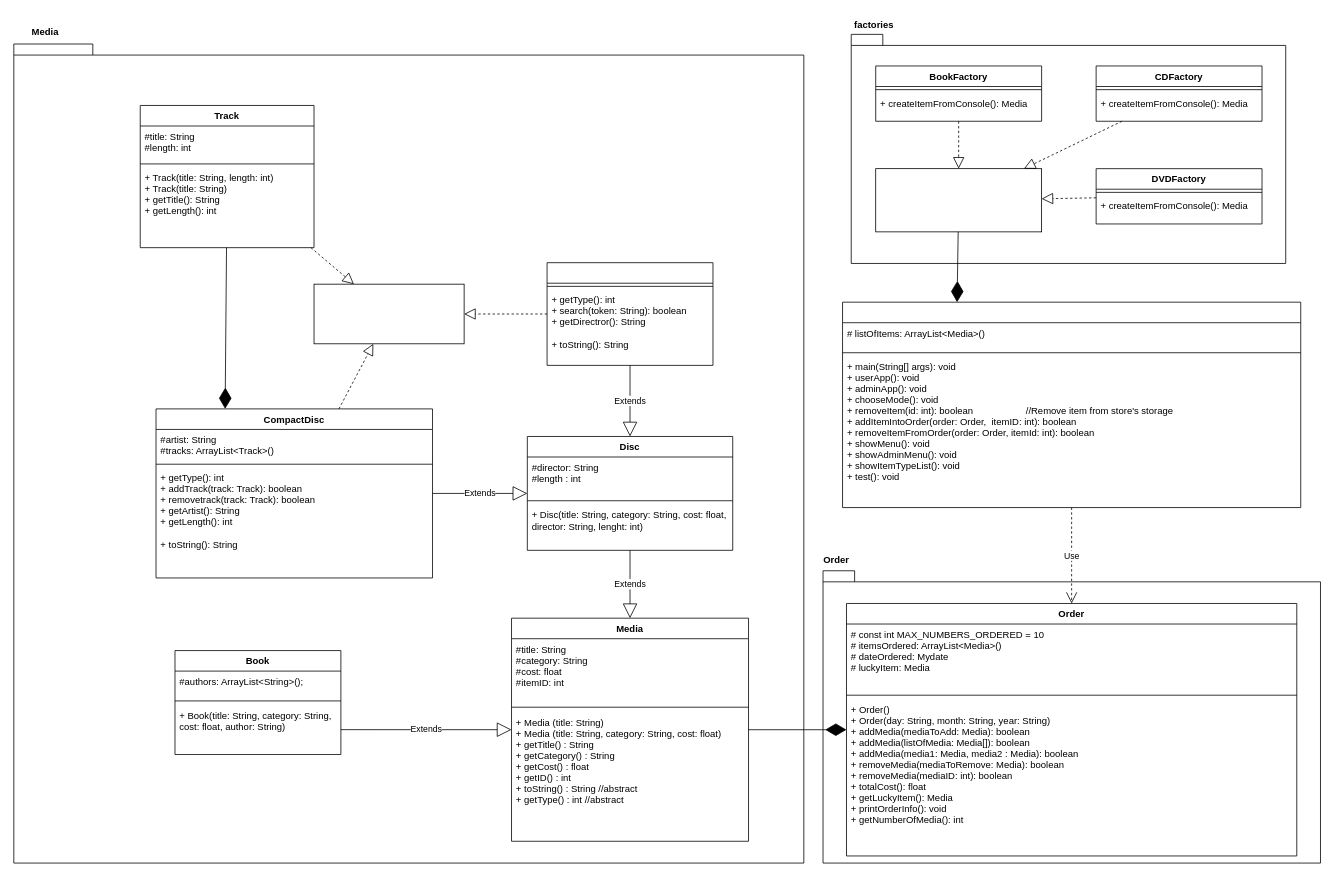
The diagram is 1334 pixels wide and 877 high, and some of its shapes have lost their labels. The box of each missing label's shape, as (x1, y1, x2, y2) in pixels:
<<Interface>> AbstractItemFactory + createMediaFromComsole(): Media: (875, 168, 1042, 232)
<<Interface>> Playable + play(): void: (313, 283, 464, 344)
AIMS: (842, 301, 1301, 508)
DigitalVideoDisc: (546, 262, 713, 365)
